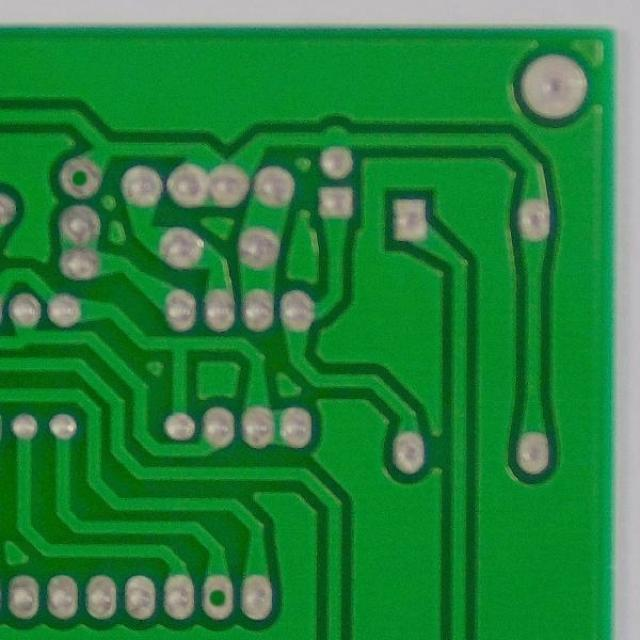Missing_Hole: (52, 154, 110, 200), (195, 573, 241, 622)
